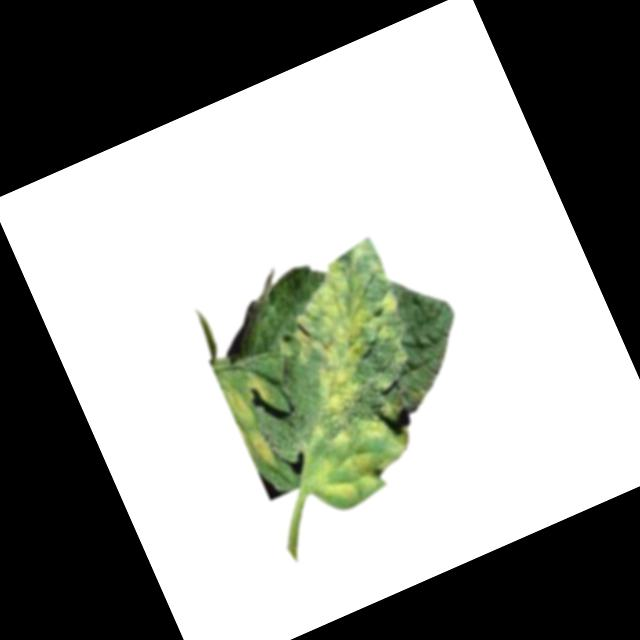Leaf_Mold: (250, 237, 431, 426), (290, 391, 430, 519), (218, 379, 257, 431), (245, 427, 278, 472), (244, 371, 272, 409)
